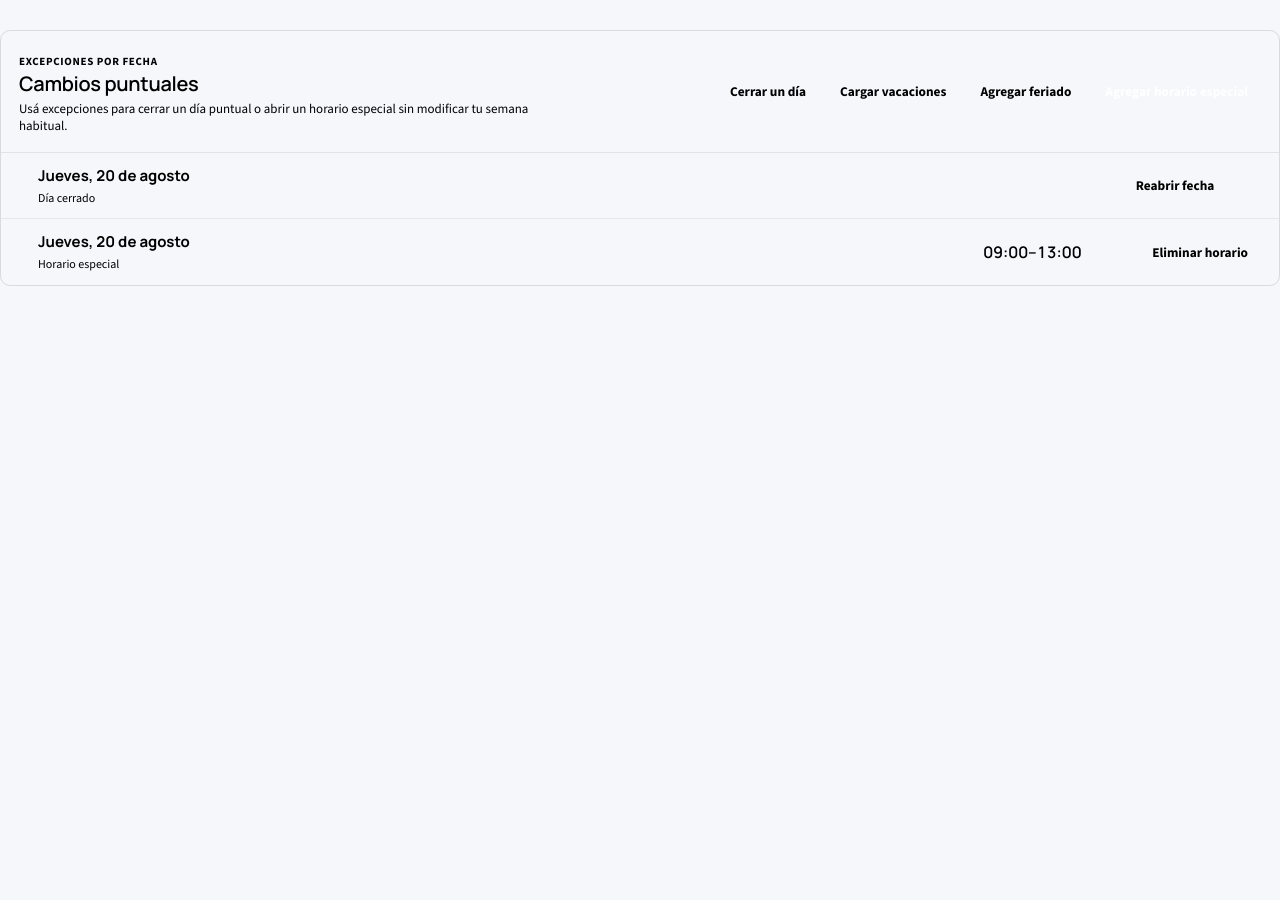
Scenario: excepciones de disponibilidad › elimina cierres y horarios con confirmación específica
Click the button "Reabrir fecha" at (1175, 186), box [1105, 166, 1245, 206]
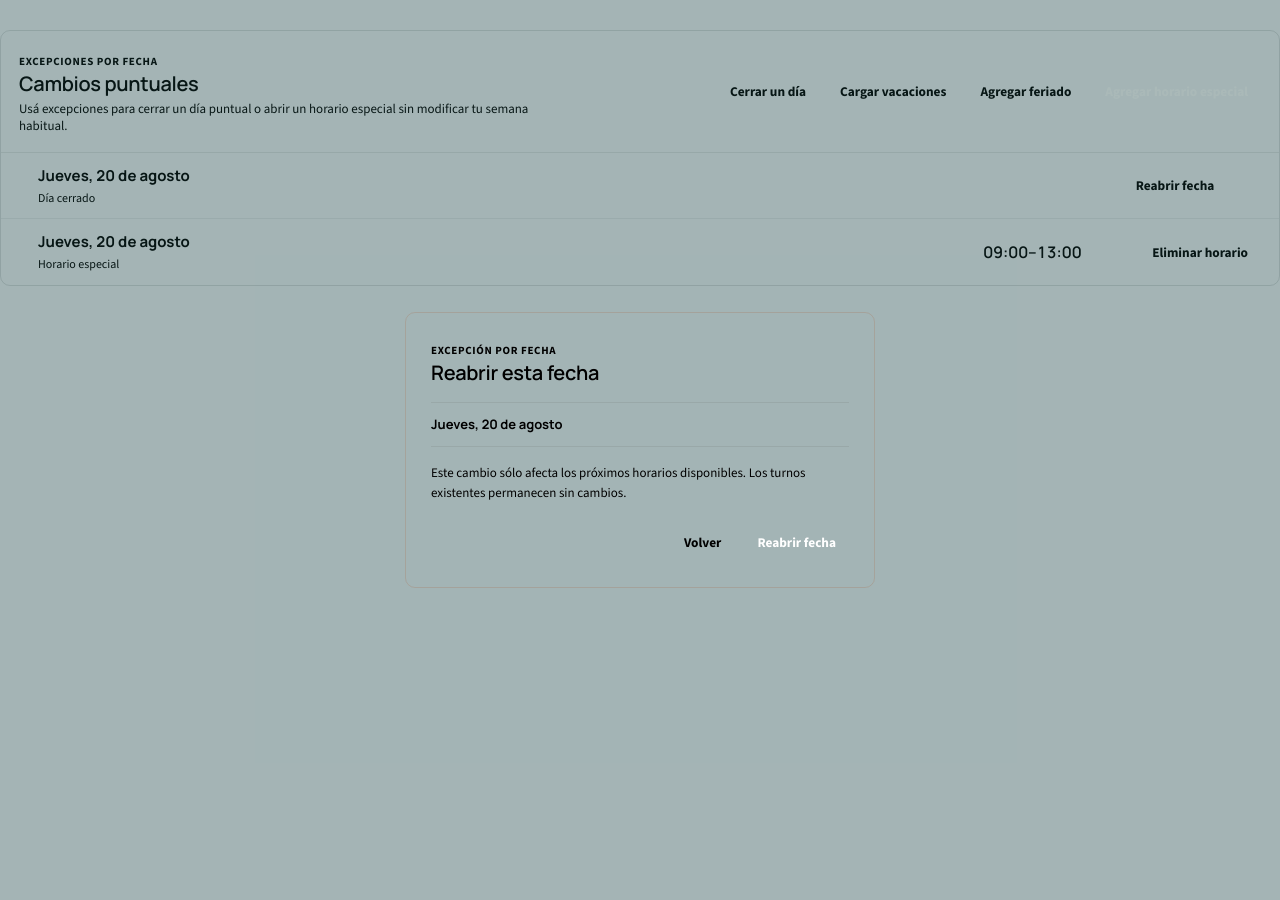
Click the button "Reabrir fecha" at (797, 542), box [744, 522, 849, 562]
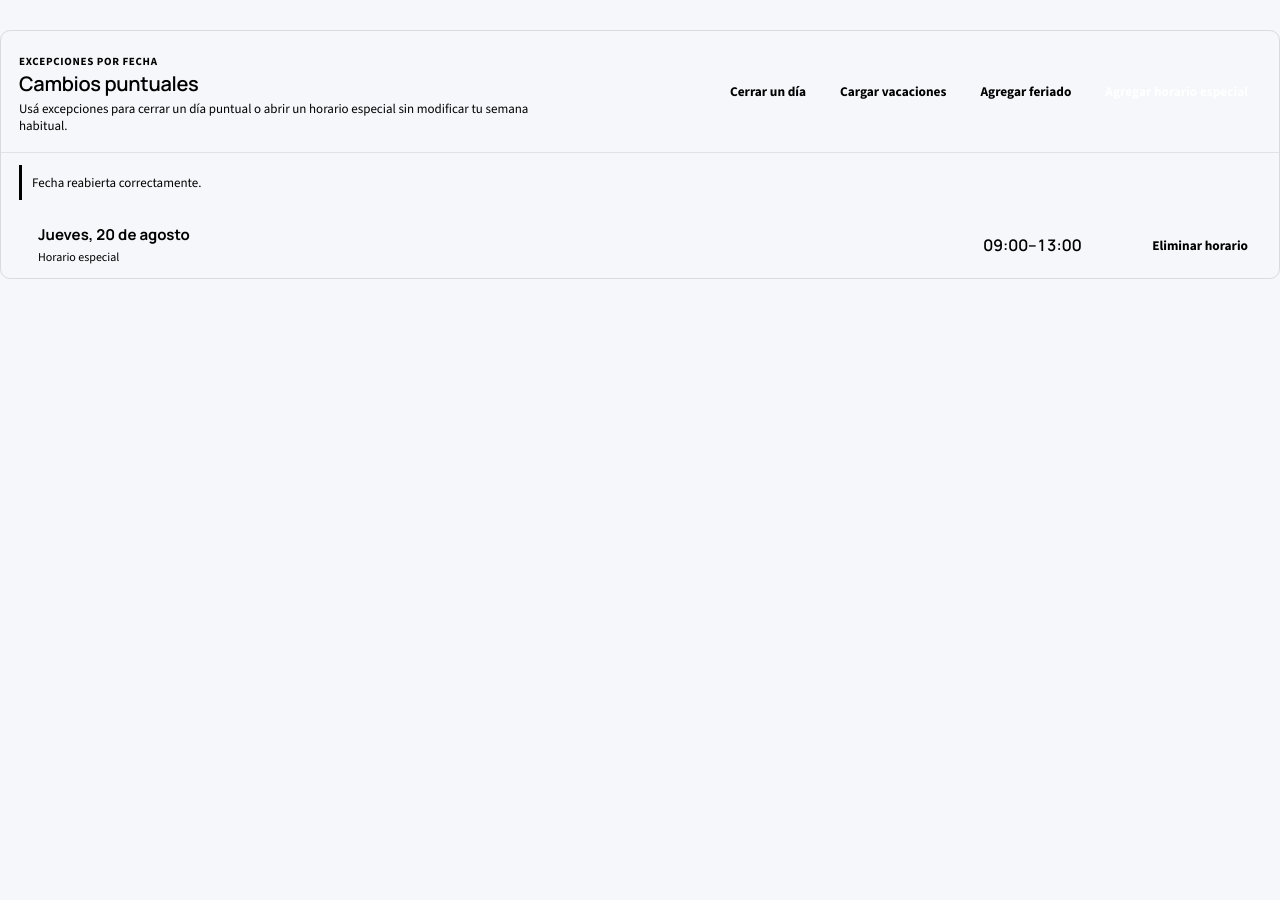
Now the message shows "Fecha reabierta", box [32, 174, 201, 191]
Click the button "Eliminar horario" at (1200, 245), box [1139, 225, 1261, 265]
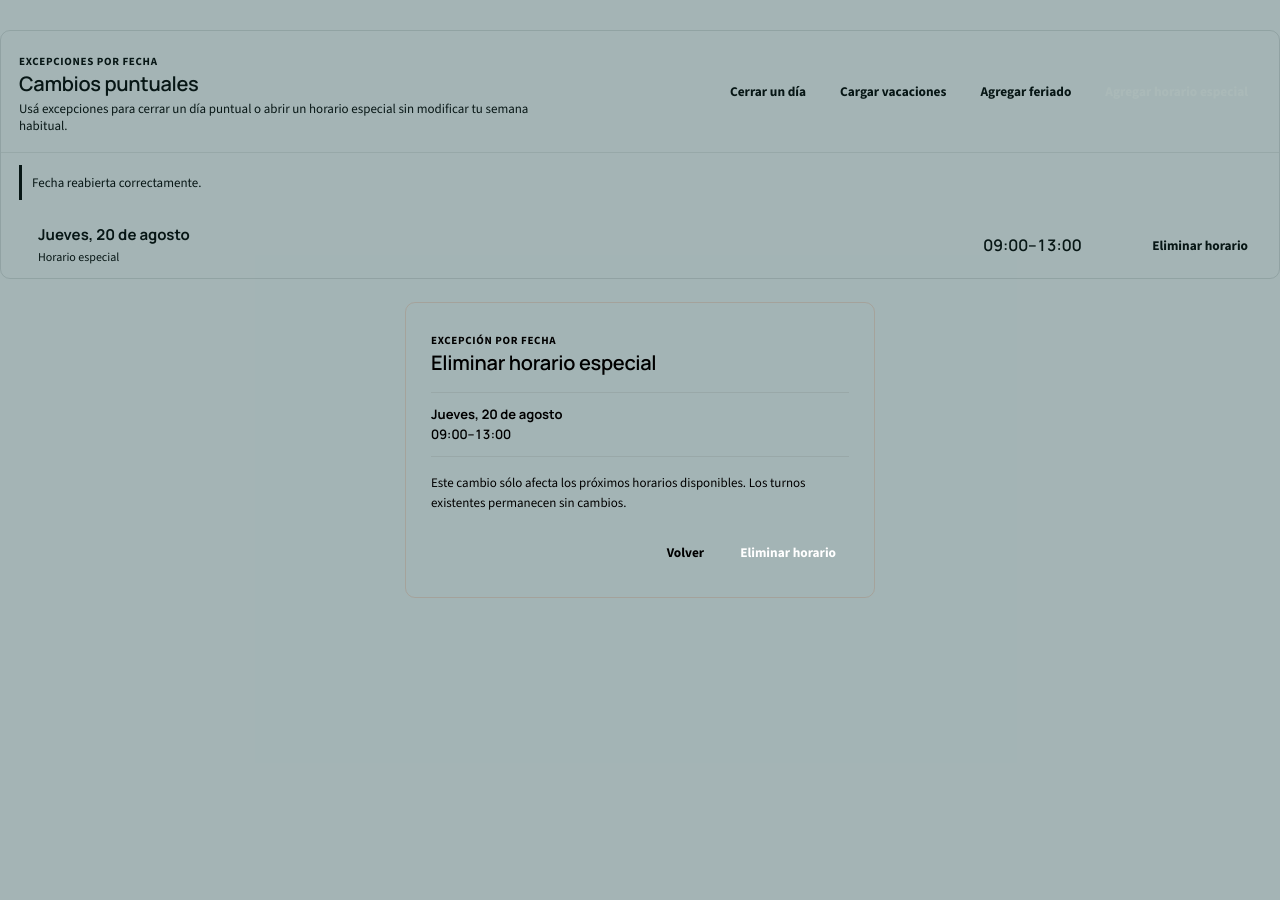
Now the dialog "Eliminar horario especial" is shown, box [405, 302, 875, 598]
